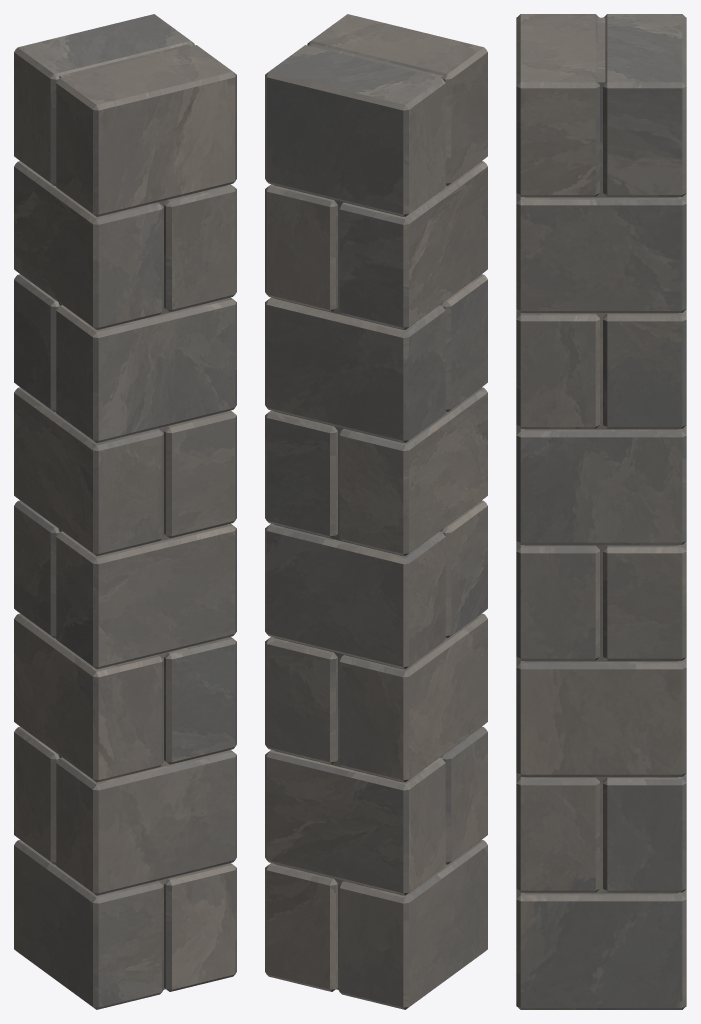
Rendered from S03_StonePier_0.50x3x0.50_UV2.fbx.
3 views of the same model, side by side, from view 1: azimuth 30°, elevation 25°; view 2: azimuth 150°, elevation 25°; view 3: azimuth 270°, elevation 25° (orthographic). The views are drawn at different scales.
Visible parts, largest first — view 1: S03_Export_UV2; view 2: S03_Export_UV2; view 3: S03_Export_UV2.
Part boxes in pixels (bbox=[...]): S03_Export_UV2: bbox=[14, 14, 236, 1009]; S03_Export_UV2: bbox=[265, 14, 487, 1009]; S03_Export_UV2: bbox=[516, 14, 686, 1009].
Size of the model in its own units: 0.5 by 3 by 0.5.
